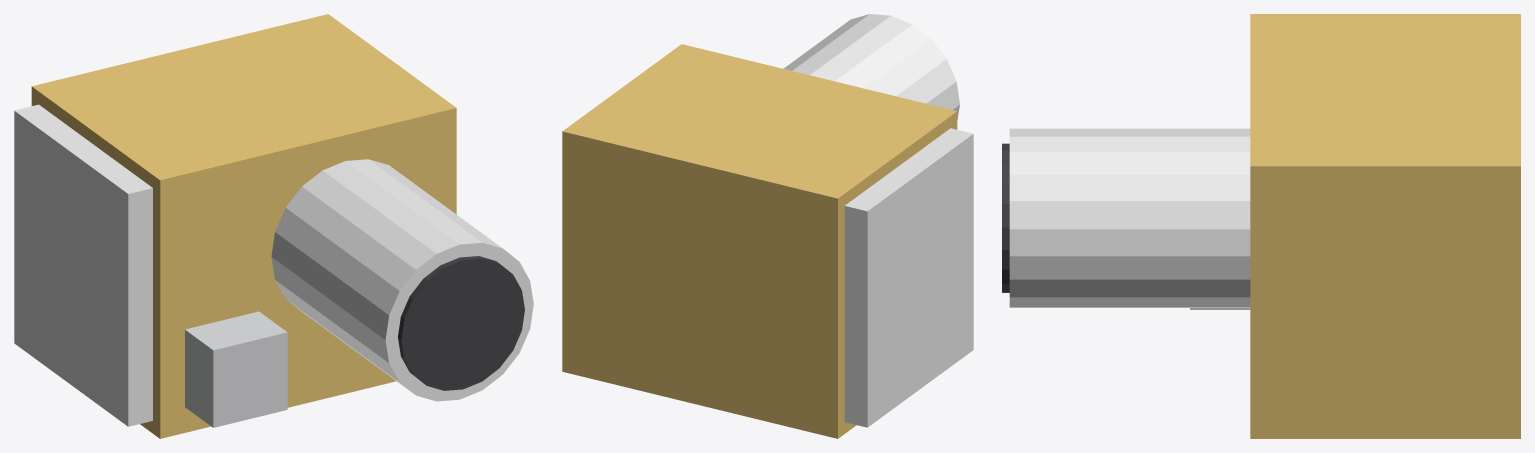
File: ins_spec.fbx
The picture shows the model from 3 angles, left to right: view 1: azimuth 30°, elevation 25°; view 2: azimuth 150°, elevation 25°; view 3: azimuth 270°, elevation 25°; orthographic projection. The views are drawn at different scales.
Parts seen in each view (by area): view 1: ins_spec; view 2: ins_spec; view 3: ins_spec.
Part boxes in pixels (x1,y1,x2,y2): ins_spec: (14,14,533,438); ins_spec: (562,14,973,438); ins_spec: (1002,14,1520,438).
Bounding box in the file's own units: 0.26 × 0.2 × 0.345.
